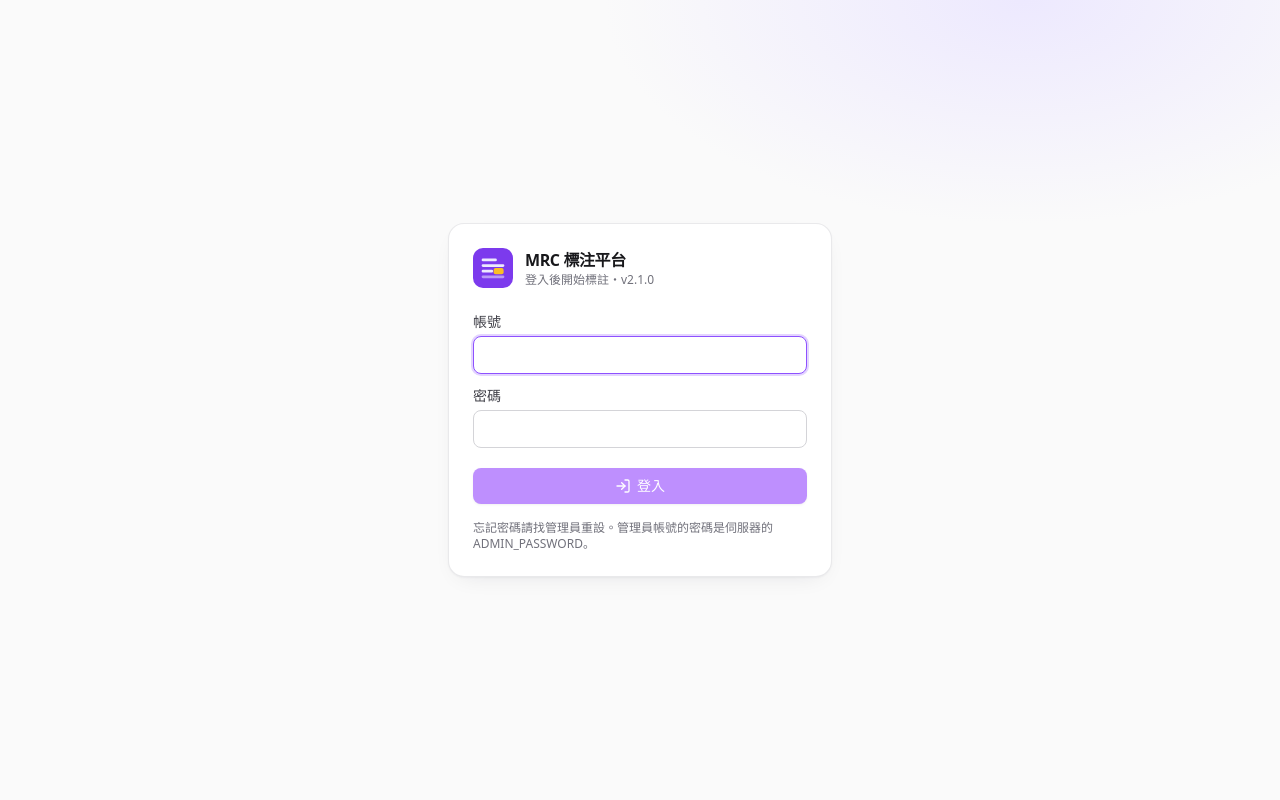
it: built-in login › shows the login page, signs in, and signs out again
The image size is (1280, 800).
Type "admin" into the field labelled "帳號" at (640, 355), box [473, 336, 807, 374]
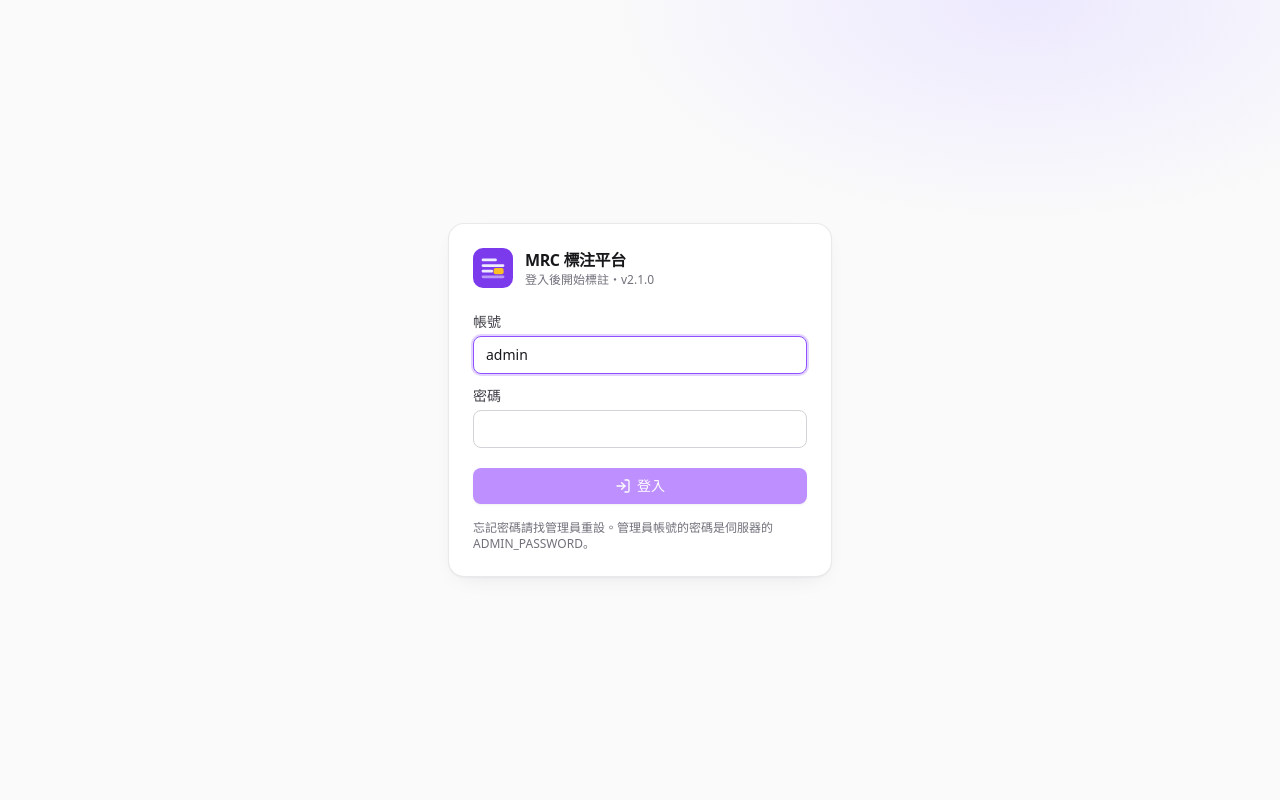
Type "admin-password-1" into the password field labelled "密碼" at (640, 429), box [473, 410, 807, 448]
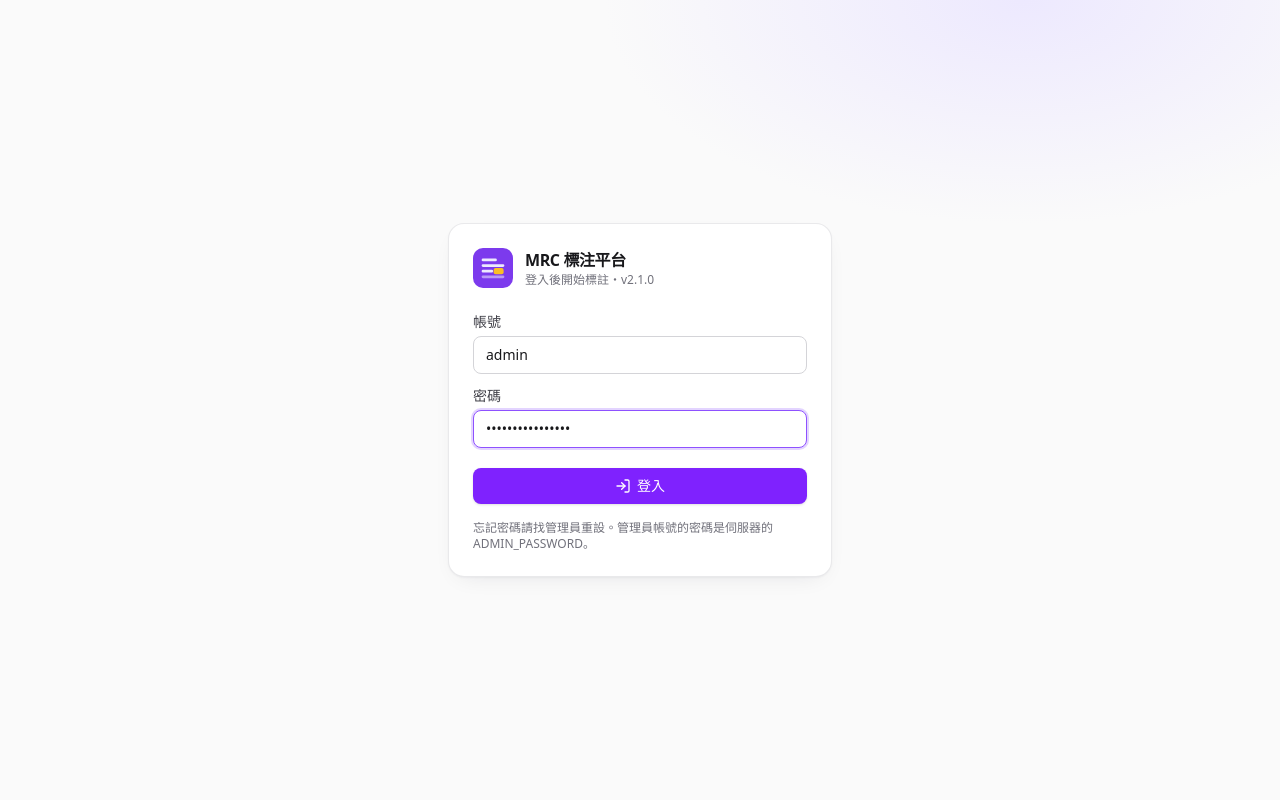
Click the button "登入" at (640, 486), box [473, 468, 807, 504]
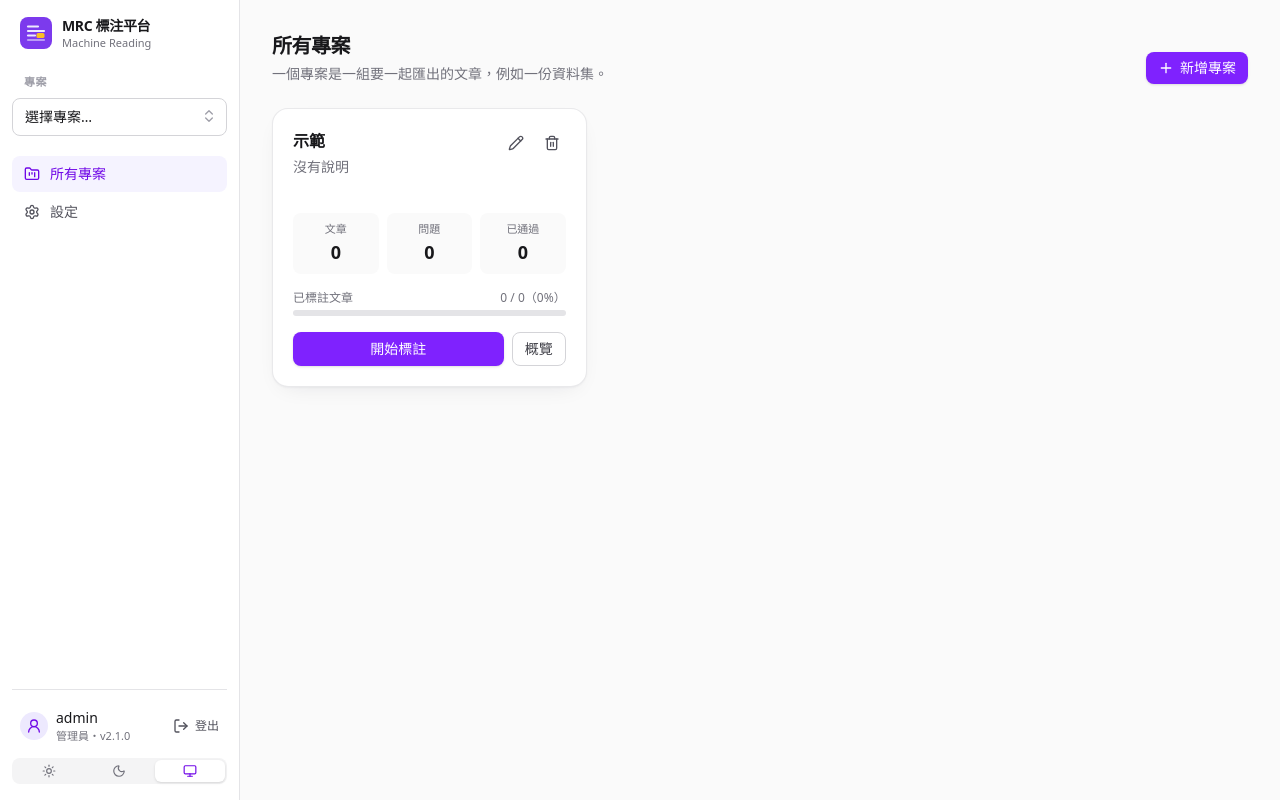
Expected: the text "admin" is shown, [56, 708, 98, 726]
Expected: the text "管理員・v2.1.0" is shown, [56, 728, 130, 744]
Expected: the button "新增專案" is shown, [1146, 52, 1248, 84]
Click the button titled "登出" at (196, 726), box [165, 712, 227, 740]
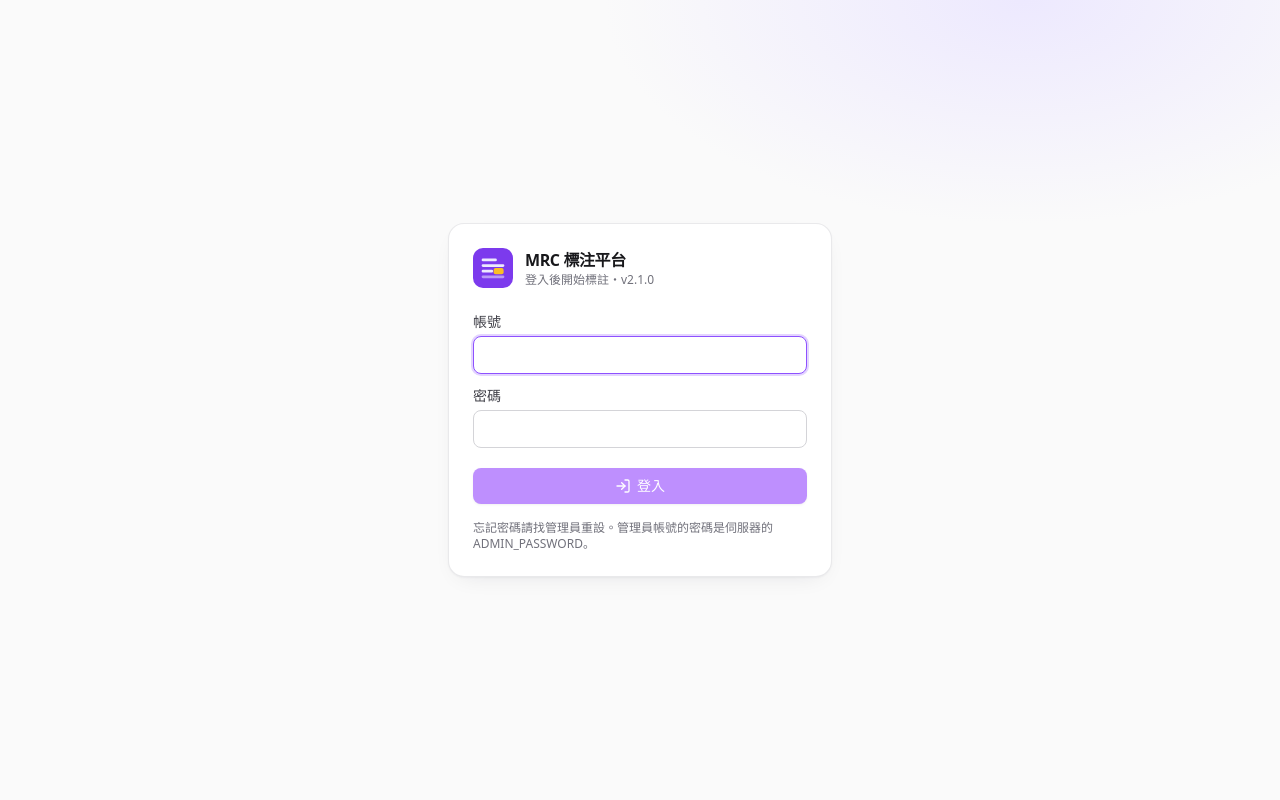
Expected: the button "登入" is shown, [473, 468, 807, 504]
